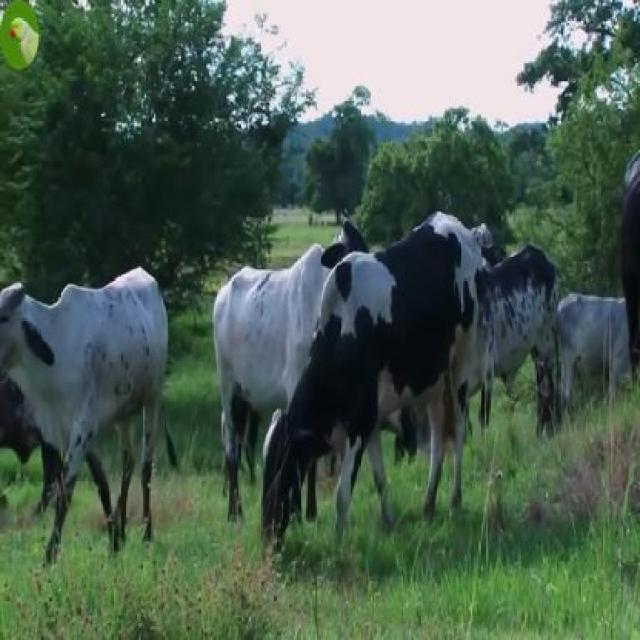Cow: (258, 202, 480, 572)
